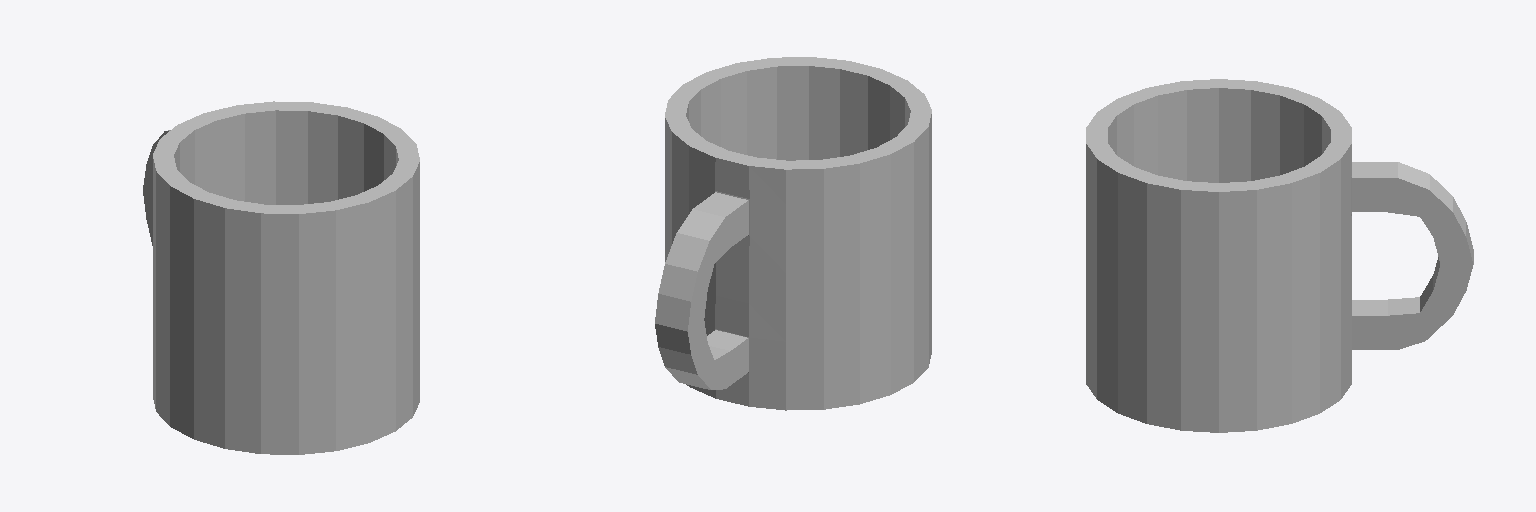
Rendered from Coffee_mug.obj.
3 renders of one model, left to right at view 1: azimuth 30°, elevation 25°; view 2: azimuth 150°, elevation 25°; view 3: azimuth 270°, elevation 25°, orthographic.
Parts seen in each view (by area): view 1: Cylinder; view 2: Cylinder; view 3: Cylinder.
Part boxes in pixels (left/top/right/bottom): Cylinder: left=143, top=101, right=419, bottom=454; Cylinder: left=655, top=57, right=931, bottom=410; Cylinder: left=1086, top=79, right=1473, bottom=432.
Size of the model in its own units: 221 by 219 by 319.